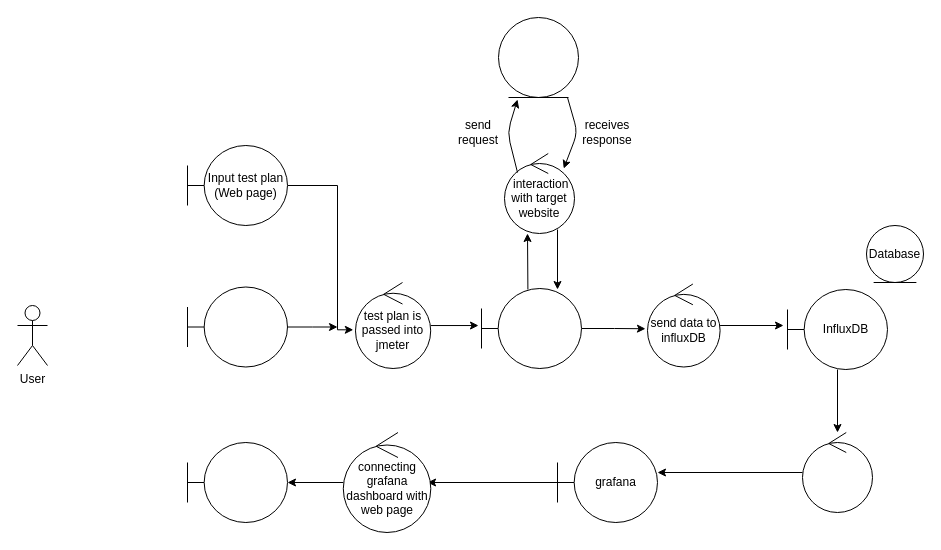
The diagram is 941 pixels wide and 550 high, and some of its shapes have lost their labels. Here are the shapes that lost their labels. From the top down, the centre of each, then its label:
the point at 538,57: target website
the point at 237,326: Input target website for simple test (Web page)
the point at 531,328: jmeter
the point at 237,482: web page displaying graphs
the point at 837,472: Send information to grafana
